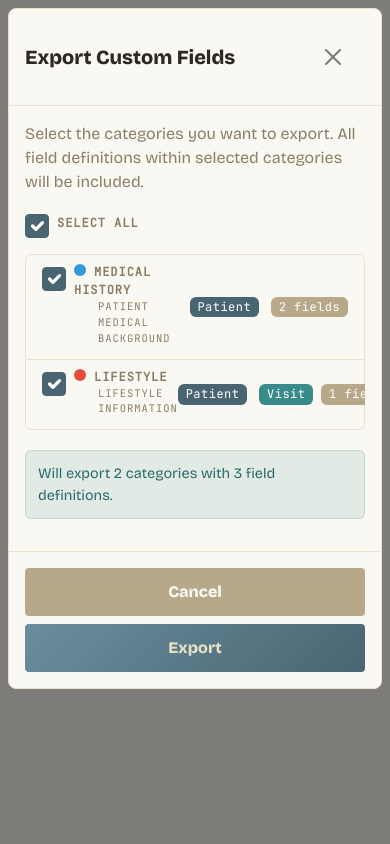
Test: ExportCustomFieldsModal › Selection behavior › toggles individual category selection
The image size is (390, 844).
// Find and click on the Medical History checkbox
Click the text "Medical History".
click(195, 307)  # box [25, 254, 365, 360]
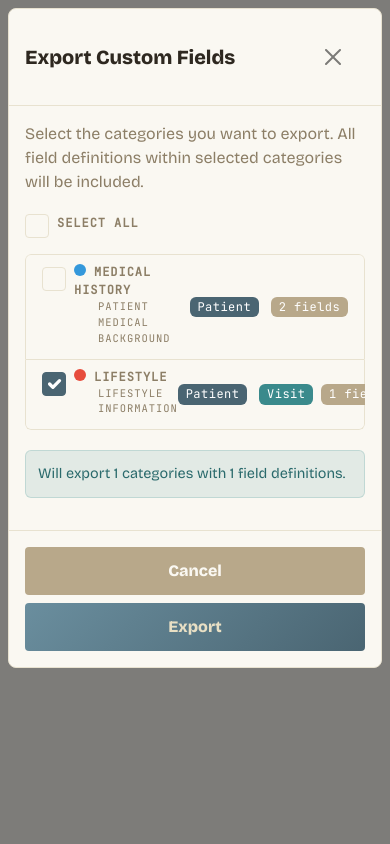
expect the checkbox labelled "Select All" is not checked: met, box [25, 214, 49, 238]
